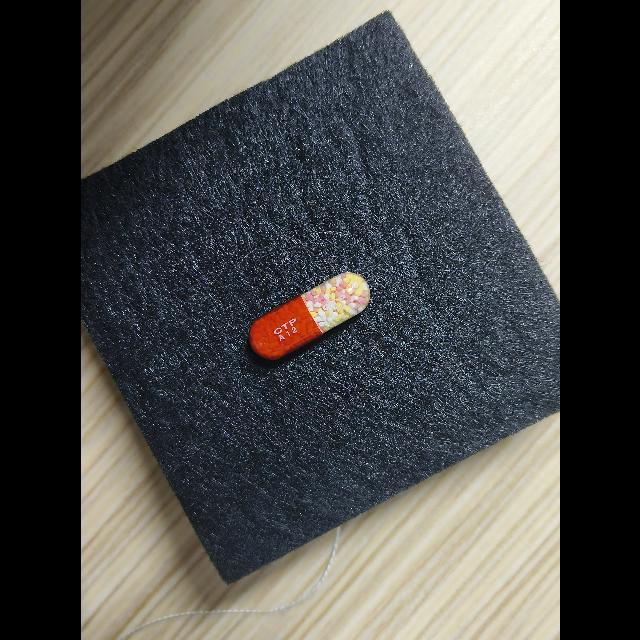Intact Capsule: (248, 272, 370, 360)
